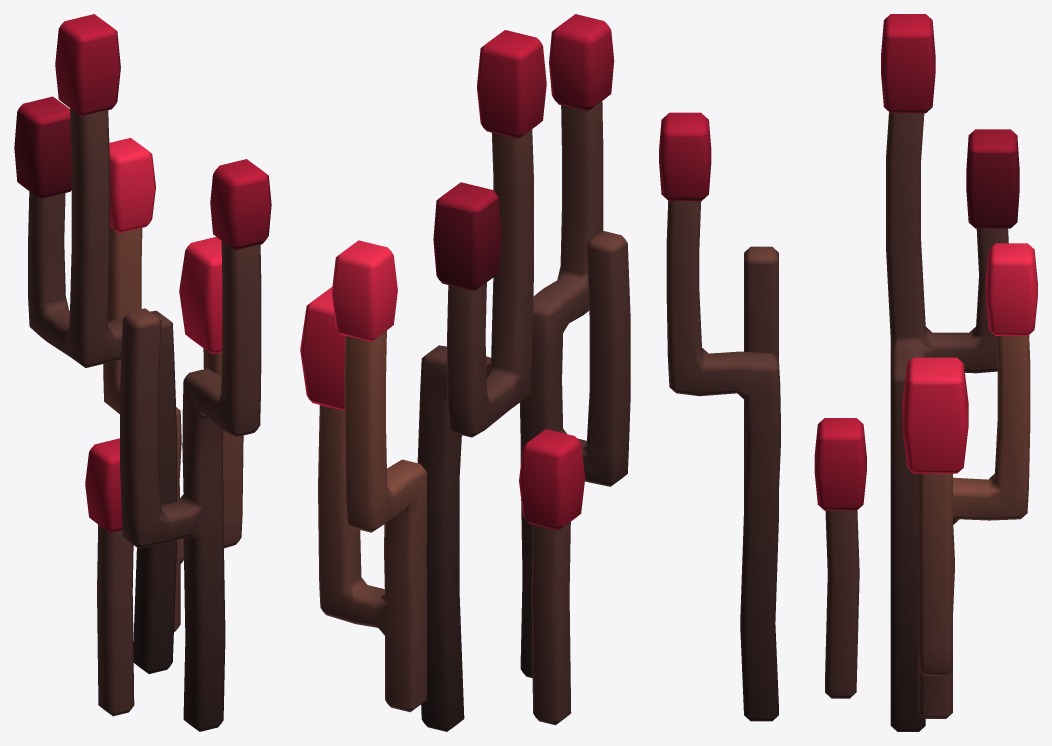
The model's file is shrub_05.fbx.
3 renders of one model, left to right at view 1: azimuth 30°, elevation 25°; view 2: azimuth 150°, elevation 25°; view 3: azimuth 270°, elevation 25°, orthographic. The views are drawn at different scales.
Visible parts, largest first — view 1: shrub_05; view 2: shrub_05; view 3: shrub_05.
Part boxes in pixels (x1,y1,x2,y2): shrub_05: (14,14,271,731); shrub_05: (300,14,630,731); shrub_05: (659,14,1037,731).
Size of the model in its own units: 91.07 by 277 by 141.
